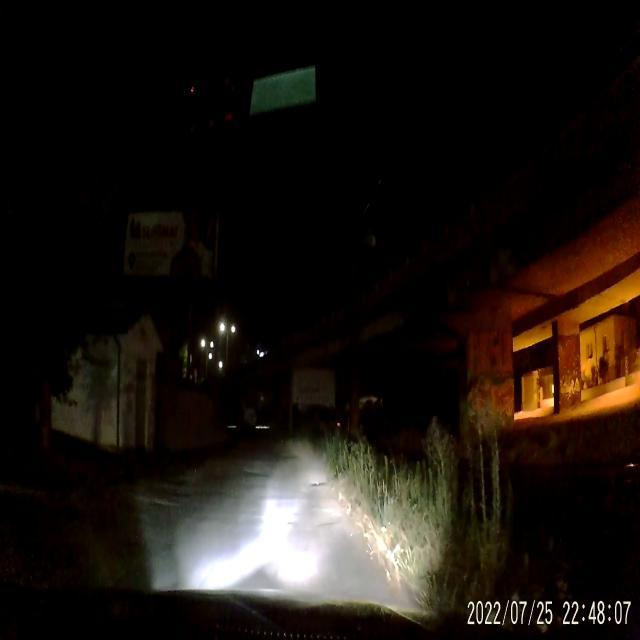Pothole: (310, 477, 324, 490)
